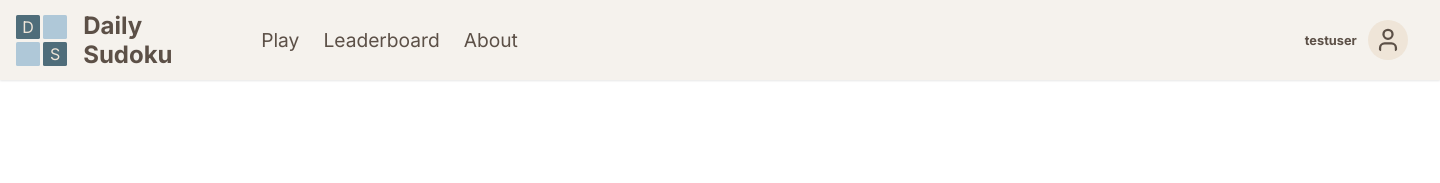
Test: Header › shows dropdown menu when profile button clicked
Click the button "testuser".
click(1364, 40)  # box [1305,4,1424,76]
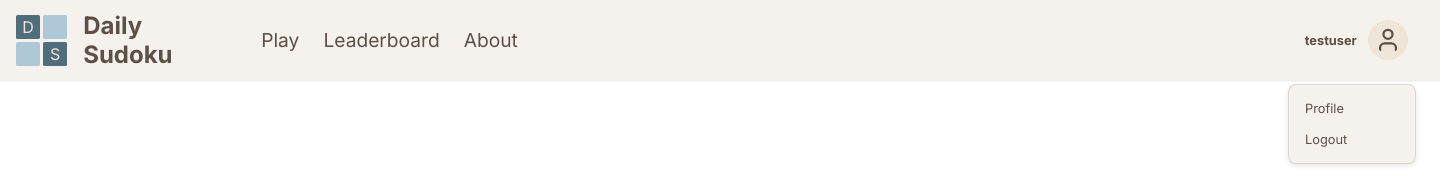
Check: the link "Profile" is shown, box [1305,101,1344,116]
Check: the button "Logout" is shown, box [1289,124,1415,155]
